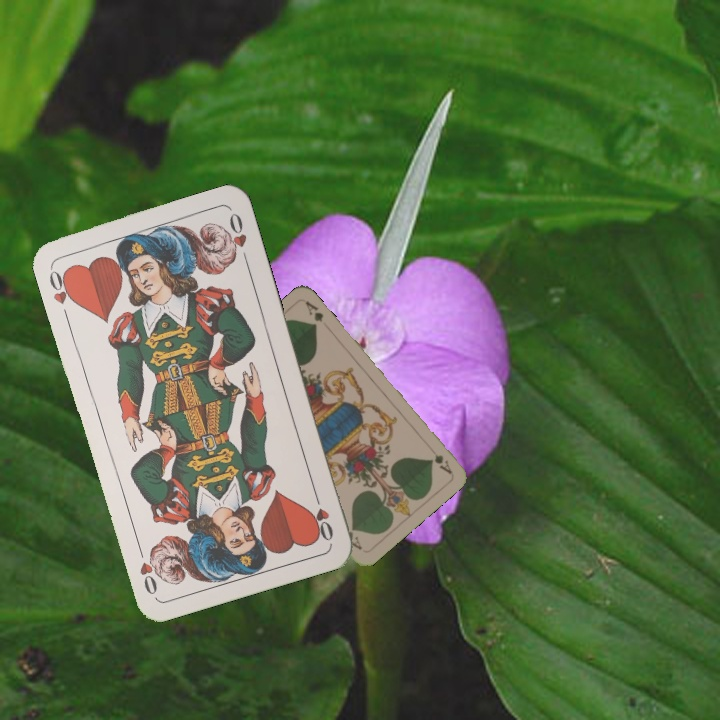GA: (424, 442, 455, 476)
HO: (308, 486, 336, 544), (45, 263, 79, 307)
